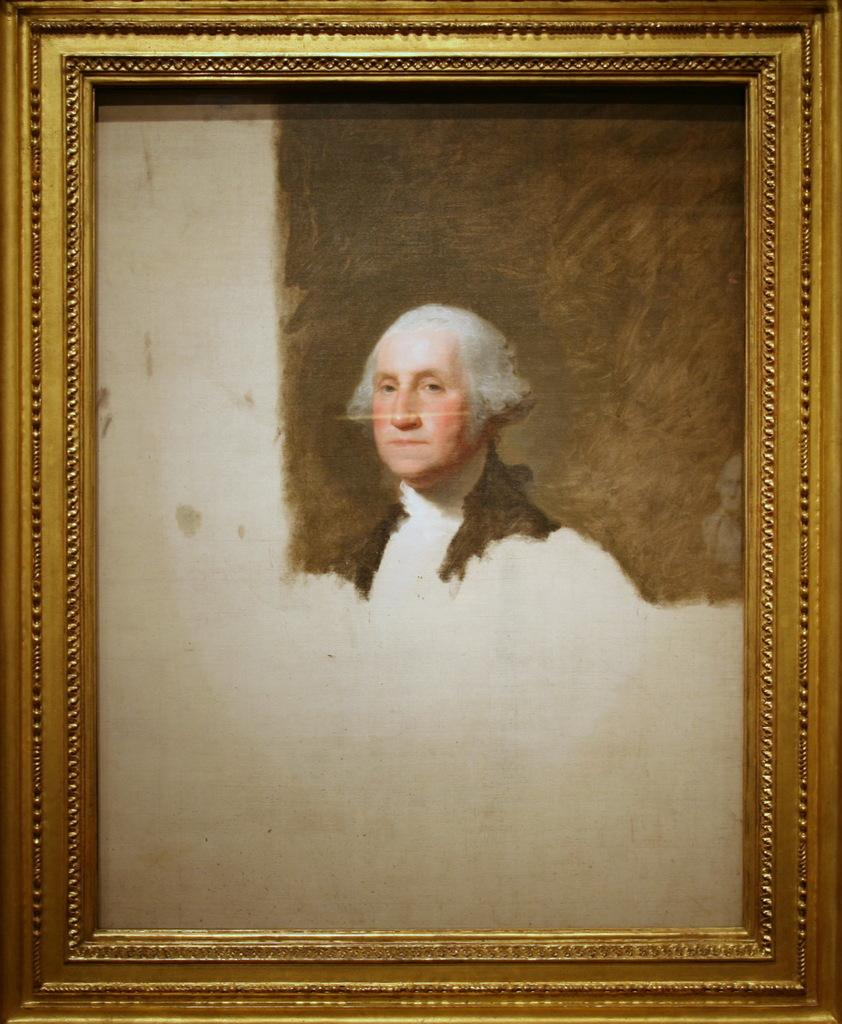Sem Máscara: (369, 334, 471, 477)
